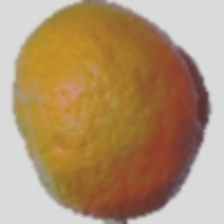tangerine: (31, 13, 170, 196)
